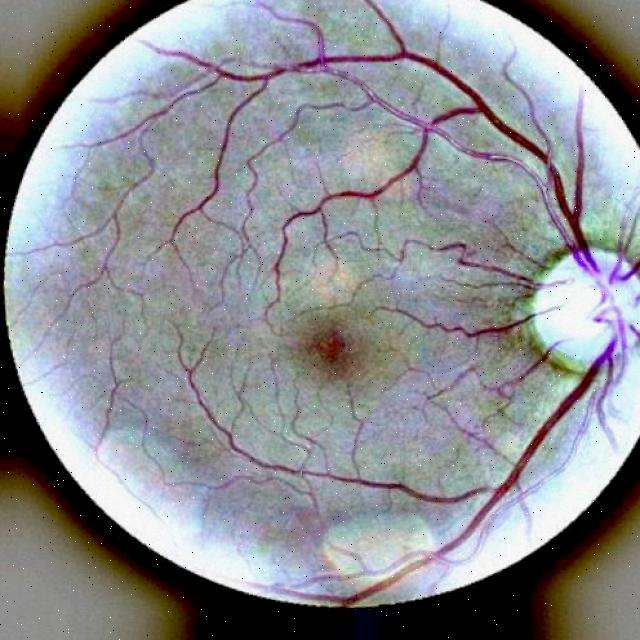Macula: (271, 311, 387, 403)
Nerves: (358, 315, 621, 599), (415, 50, 612, 295), (454, 302, 548, 349), (495, 347, 567, 400), (589, 361, 621, 451), (619, 241, 640, 291)
Optic Disk: (535, 246, 640, 363)
